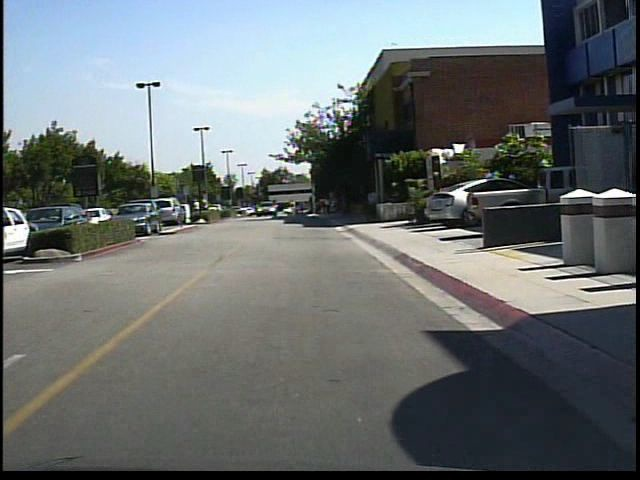person: (190, 191, 206, 219), (287, 196, 302, 222)
